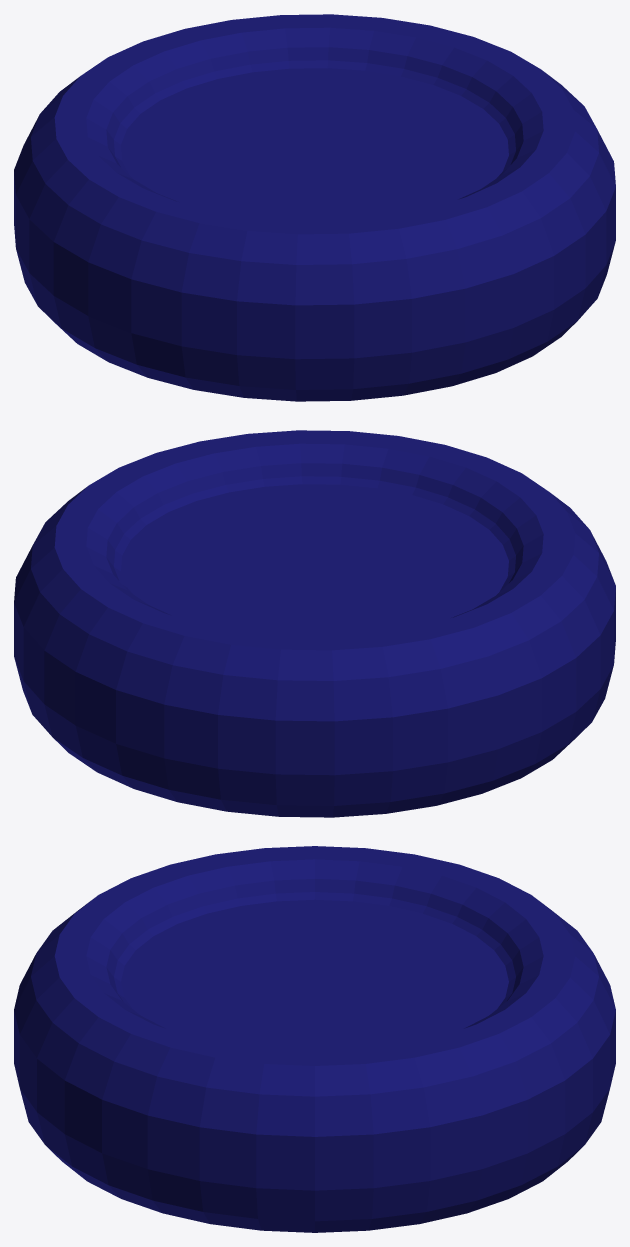
Rendered from Blue.fbx.
3 views of the same model, one above another, from view 1: azimuth 30°, elevation 25°; view 2: azimuth 150°, elevation 25°; view 3: azimuth 270°, elevation 25° (orthographic).
Parts seen in each view (by area): view 1: Cylinder.002; view 2: Cylinder.002; view 3: Cylinder.002.
Boxes of the visible parts, x1,y1,x2,y2 form: Cylinder.002: (14, 14, 615, 401); Cylinder.002: (14, 430, 615, 817); Cylinder.002: (14, 846, 615, 1232).
Bounding box in the file's own units: 169 × 50 × 169.
